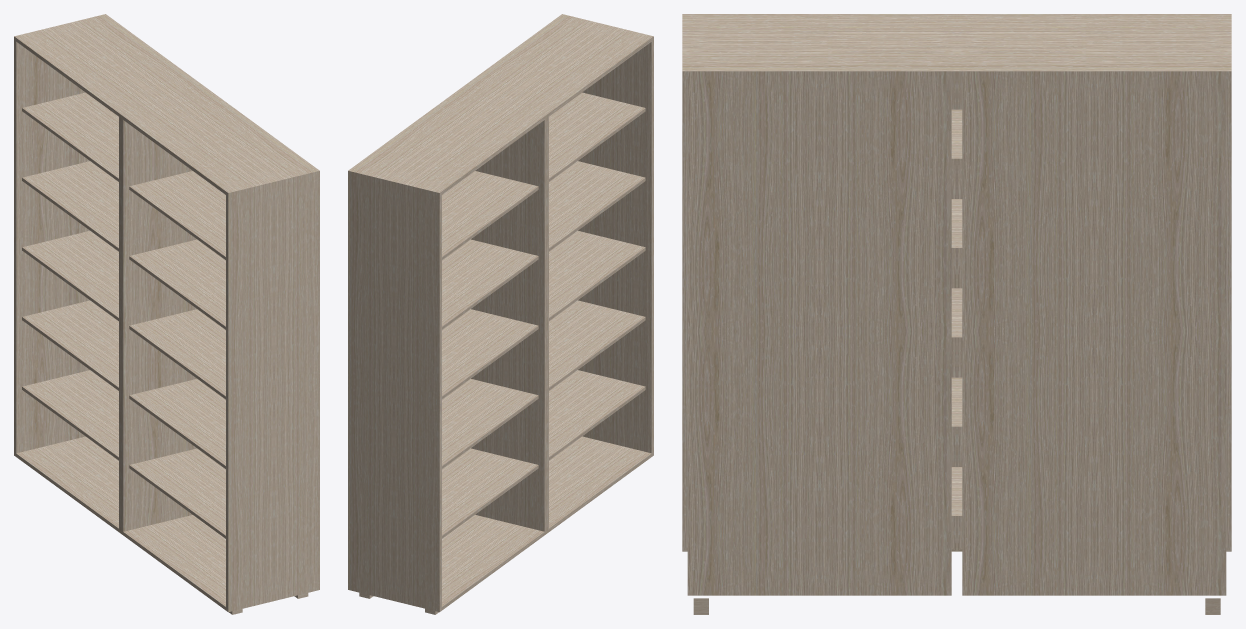
Rendered from Library_03.FBX.
3 views of the same model, side by side, from view 1: azimuth 30°, elevation 25°; view 2: azimuth 150°, elevation 25°; view 3: azimuth 270°, elevation 25° (orthographic). The views are drawn at different scales.
Parts seen in each view (by area): view 1: Library_03; view 2: Library_03; view 3: Library_03.
Part boxes in pixels (box(x1,y1,x2,y2)): Library_03: box(14, 14, 319, 614); Library_03: box(348, 14, 653, 614); Library_03: box(682, 14, 1231, 614).
Size of the model in its own units: 0.5686 by 2.53 by 2.3.
